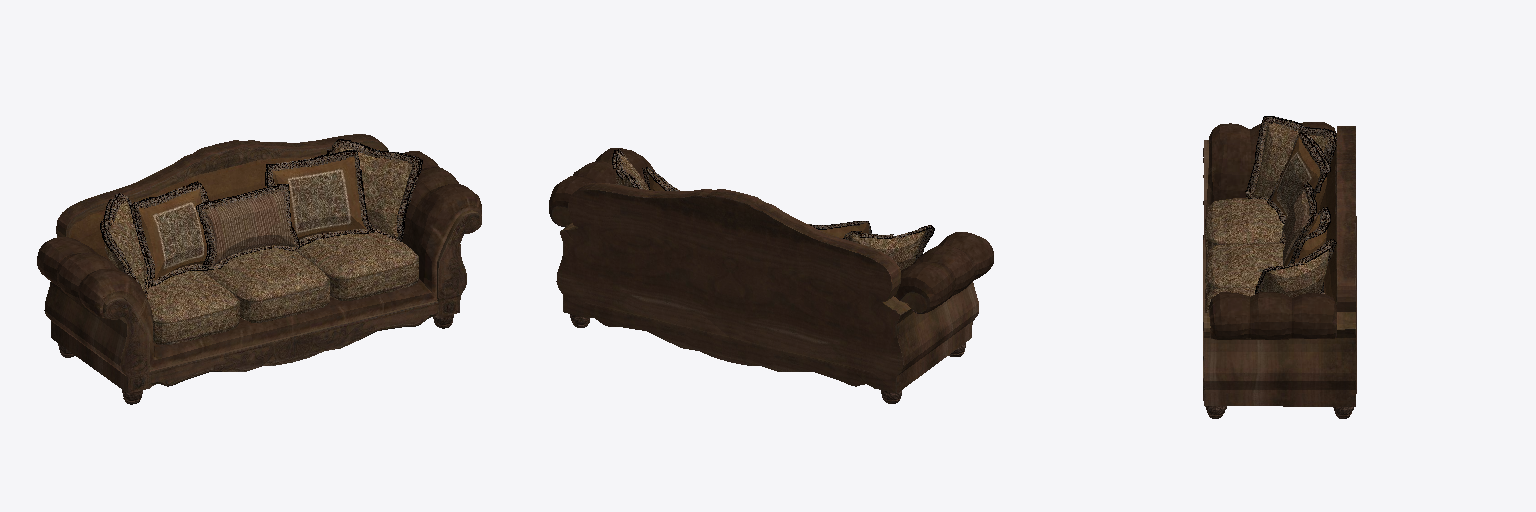
3 views of the same model, side by side, from view 1: azimuth 30°, elevation 25°; view 2: azimuth 150°, elevation 25°; view 3: azimuth 270°, elevation 25° (orthographic).
Parts seen in each view (by area): view 1: sofa_03_Mesh.009; view 2: sofa_03_Mesh.009; view 3: sofa_03_Mesh.009.
Part boxes in pixels (left/top/right/bottom): sofa_03_Mesh.009: left=37, top=134, right=481, bottom=404; sofa_03_Mesh.009: left=549, top=148, right=993, bottom=403; sofa_03_Mesh.009: left=1203, top=116, right=1356, bottom=418.
Size of the model in its own units: 2.73 by 1.12 by 0.9251.
Materials: 2 (1 with a texture image).